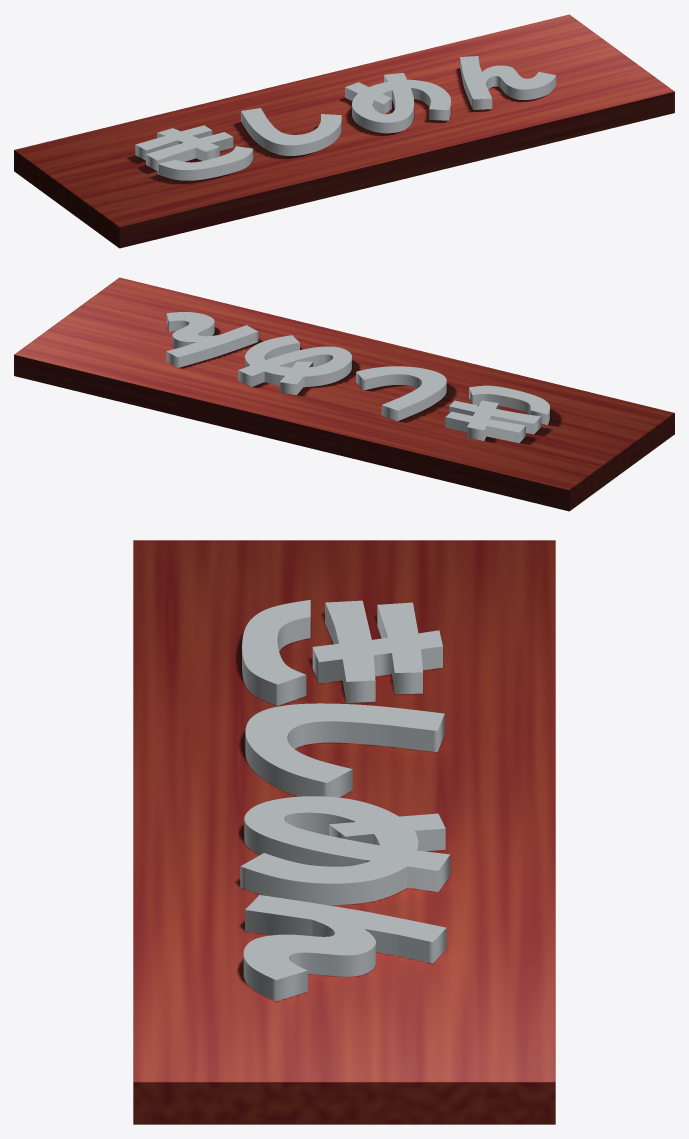
Rendered from kishimen.fbx.
3 views of the same model, one above another, from view 1: azimuth 30°, elevation 25°; view 2: azimuth 150°, elevation 25°; view 3: azimuth 270°, elevation 25° (orthographic). The views are drawn at different scales.
Visible parts, largest first — view 1: きしめん看板, きしめん; view 2: きしめん看板, きしめん; view 3: きしめん看板, きしめん.
Part boxes in pixels (x1,y1,x2,y2): きしめん看板: [14, 14, 674, 248]; きしめん: [135, 56, 556, 180]; きしめん看板: [14, 277, 674, 511]; きしめん: [166, 312, 549, 443]; きしめん看板: [133, 540, 555, 1124]; きしめん: [240, 600, 450, 1001].
Bounding box in the file's own units: 547 × 30 × 180.
Materials: 2 (2 with a texture image).
